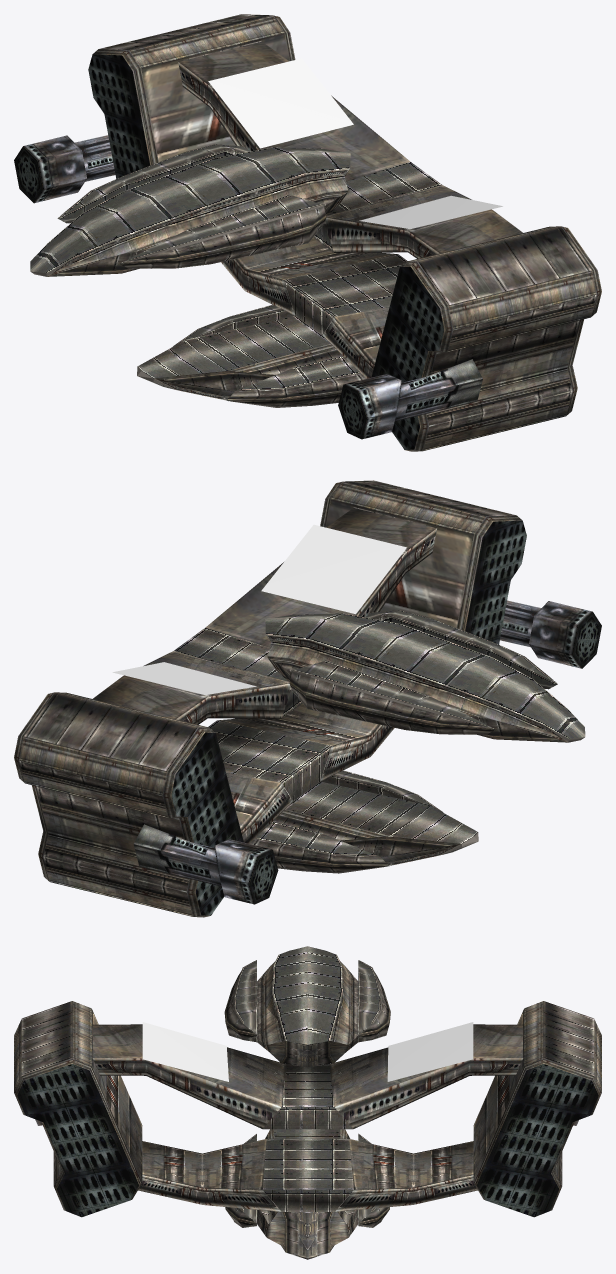
File: pvs14.obj
3 renders of one model, top to bottom at view 1: azimuth 30°, elevation 25°; view 2: azimuth 150°, elevation 25°; view 3: azimuth 270°, elevation 25°, orthographic. The views are drawn at different scales.
Visible parts, largest first — view 1: MESH050, DECAL000.008, LIGHTS030; view 2: MESH050, DECAL000.008, LIGHTS030; view 3: MESH050, DECAL000.008.
Part boxes in pixels (box(x1,y1,x2,y2)): MESH050: box(14, 14, 601, 451); DECAL000.008: box(208, 58, 502, 228); LIGHTS030: box(31, 144, 324, 276); MESH050: box(14, 480, 601, 917); DECAL000.008: box(112, 524, 406, 694); LIGHTS030: box(290, 610, 584, 742); MESH050: box(14, 946, 601, 1259); DECAL000.008: box(142, 1022, 473, 1081).
Size of the model in its own units: 113 by 60.96 by 164.
Materials: 8 (8 with a texture image).
